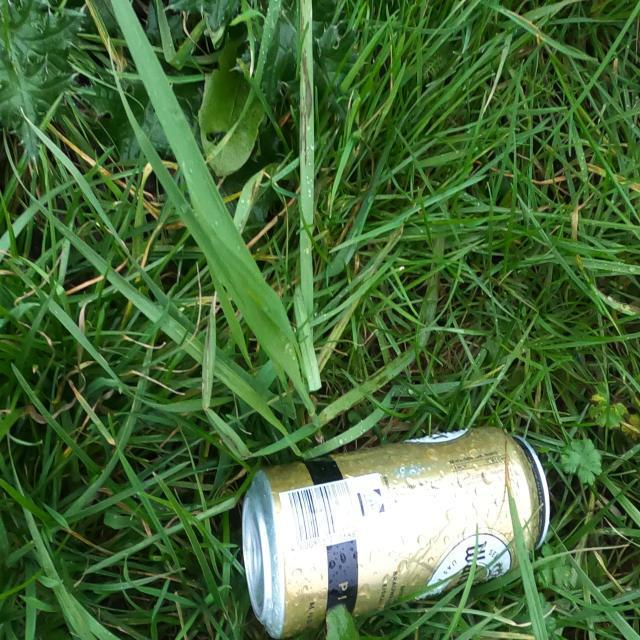Metal: (238, 424, 552, 640)
